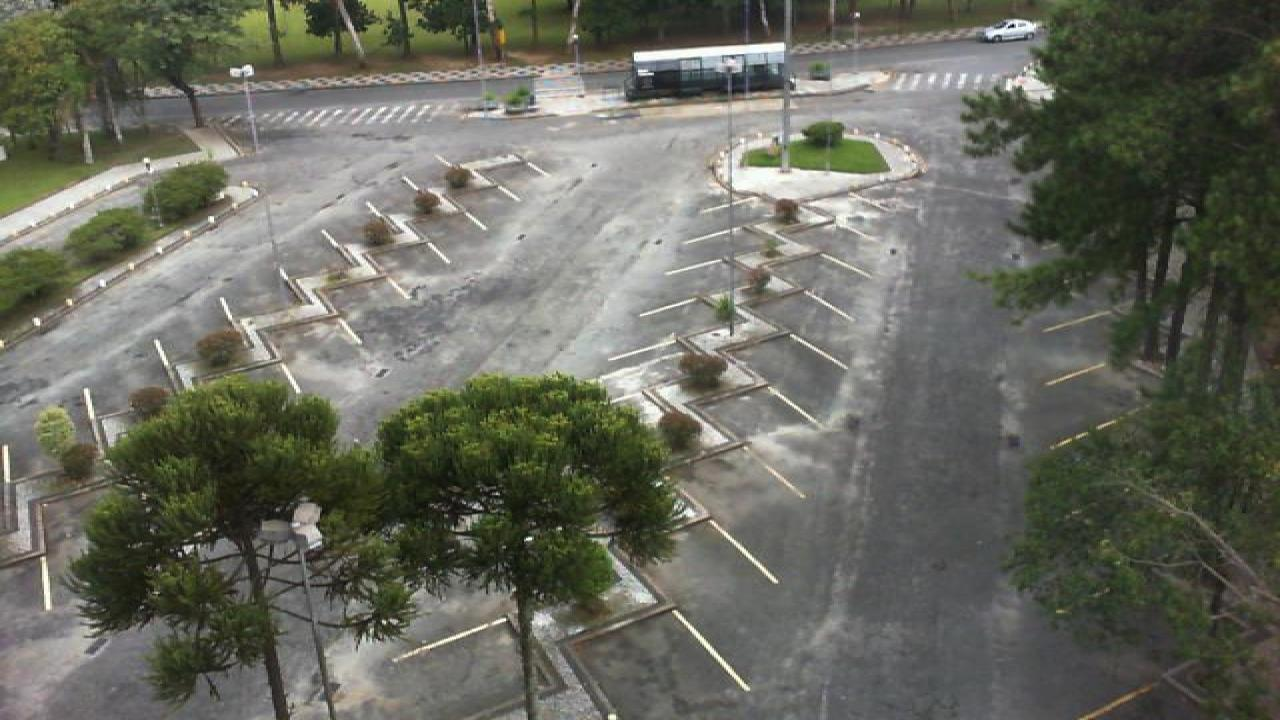Car: (980, 18, 1040, 43)
